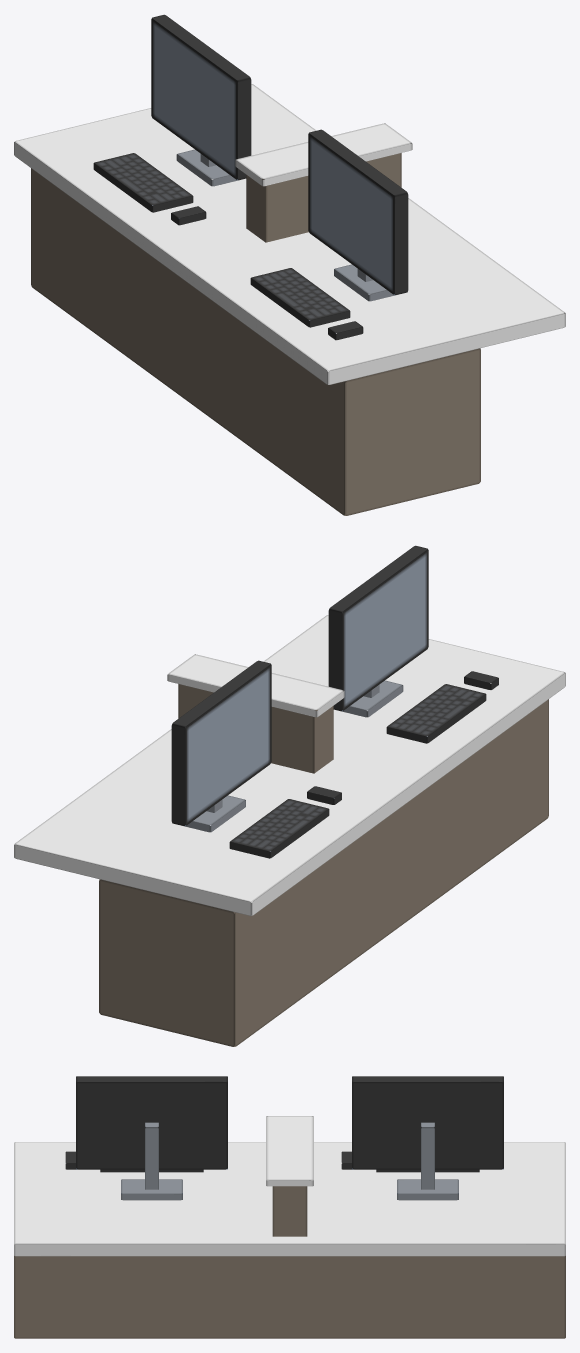
File: Counter.fbx
3 renders of one model, top to bottom at view 1: azimuth 30°, elevation 25°; view 2: azimuth 150°, elevation 25°; view 3: azimuth 270°, elevation 25°, orthographic. The views are drawn at different scales.
Visible parts, largest first — view 1: cuboid, cuboid_1, cuboid_6, cuboid_9, cuboid_2, cuboid_11, cuboid_3, cuboid_12, cuboid_7, cuboid_4; view 2: cuboid, cuboid_1, cuboid_9, cuboid_6, cuboid_2, cuboid_11, cuboid_12, cuboid_3, cuboid_4, cuboid_7; view 3: cuboid_1, cuboid, cuboid_6, cuboid_9, cuboid_11, cuboid_2, cuboid_4, cuboid_7, cuboid_5, cuboid_8, cuboid_3, cuboid_12.
Boxes of the visible parts, x1=… form: cuboid: x1=31, y1=168, x2=480, y2=515; cuboid_1: x1=14, y1=84, x2=565, y2=384; cuboid_6: x1=308, y1=129, x2=408, y2=295; cuboid_9: x1=151, y1=14, x2=251, y2=180; cuboid_2: x1=246, y1=153, x2=401, y2=242; cuboid_11: x1=235, y1=123, x2=412, y2=186; cuboid_3: x1=250, y1=268, x2=350, y2=327; cuboid_12: x1=93, y1=153, x2=193, y2=212; cuboid_7: x1=176, y1=149, x2=237, y2=186; cuboid_4: x1=334, y1=264, x2=394, y2=301; cuboid: x1=99, y1=699, x2=548, y2=1046; cuboid_1: x1=14, y1=615, x2=565, y2=915; cuboid_9: x1=171, y1=660, x2=271, y2=826; cuboid_6: x1=328, y1=545, x2=428, y2=711; cuboid_2: x1=178, y1=684, x2=333, y2=773; cuboid_11: x1=167, y1=654, x2=344, y2=717; cuboid_12: x1=229, y1=799, x2=329, y2=858; cuboid_3: x1=386, y1=684, x2=486, y2=743; cuboid_4: x1=342, y1=680, x2=403, y2=717; cuboid_7: x1=185, y1=795, x2=245, y2=832; cuboid_1: x1=14, y1=1142, x2=565, y2=1256; cuboid: x1=14, y1=1256, x2=565, y2=1338; cuboid_6: x1=76, y1=1076, x2=227, y2=1169; cuboid_9: x1=352, y1=1076, x2=503, y2=1169; cuboid_11: x1=266, y1=1116, x2=313, y2=1186; cuboid_2: x1=272, y1=1186, x2=307, y2=1236; cuboid_4: x1=121, y1=1179, x2=182, y2=1200; cuboid_7: x1=397, y1=1179, x2=458, y2=1200; cuboid_5: x1=145, y1=1122, x2=158, y2=1189; cuboid_8: x1=421, y1=1122, x2=434, y2=1189; cuboid_3: x1=100, y1=1169, x2=203, y2=1172; cuboid_12: x1=376, y1=1169, x2=479, y2=1172.
Size of the model in its own units: 43.75 by 48.12 by 100.
Materials: 1 (1 with a texture image).
